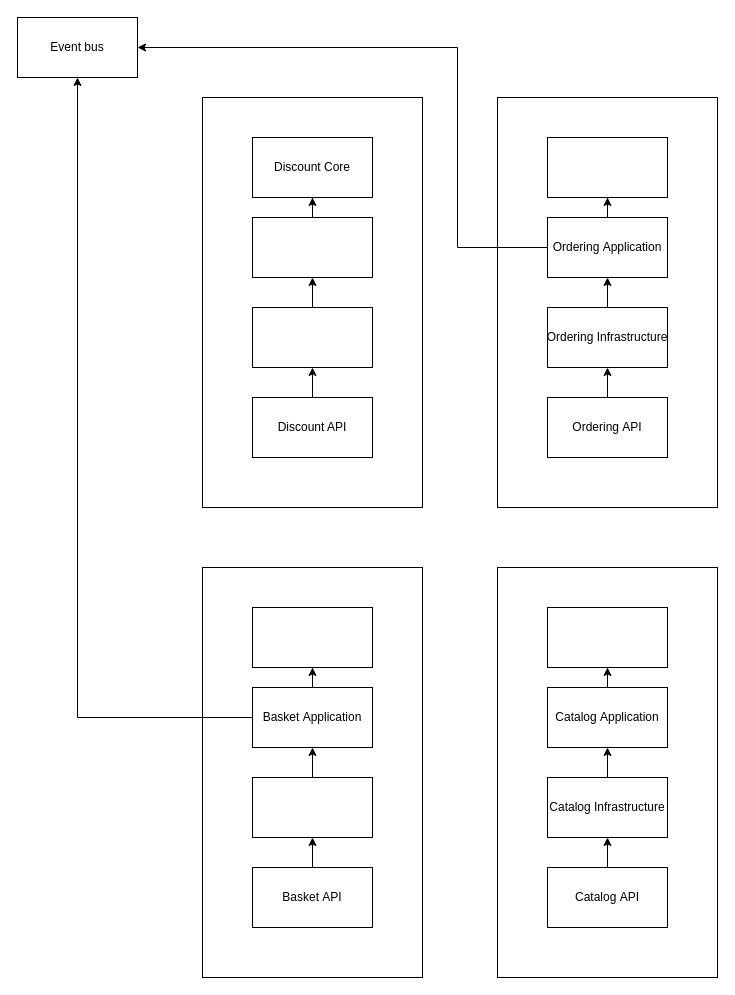
This 735x995 diagram has some shape labels left out. The shapes that lost their labels are listed below. From the top down, each one's box as (x1, y1, x2, y2) in pixels, then its label:
(546, 136, 668, 198): Ordering Core
(252, 216, 372, 278): Discount Application
(252, 306, 372, 368): Discount Infrastructure
(252, 606, 372, 668): Basket Core
(546, 606, 668, 668): Catalog Core
(252, 776, 372, 838): Basket Infrastructure
